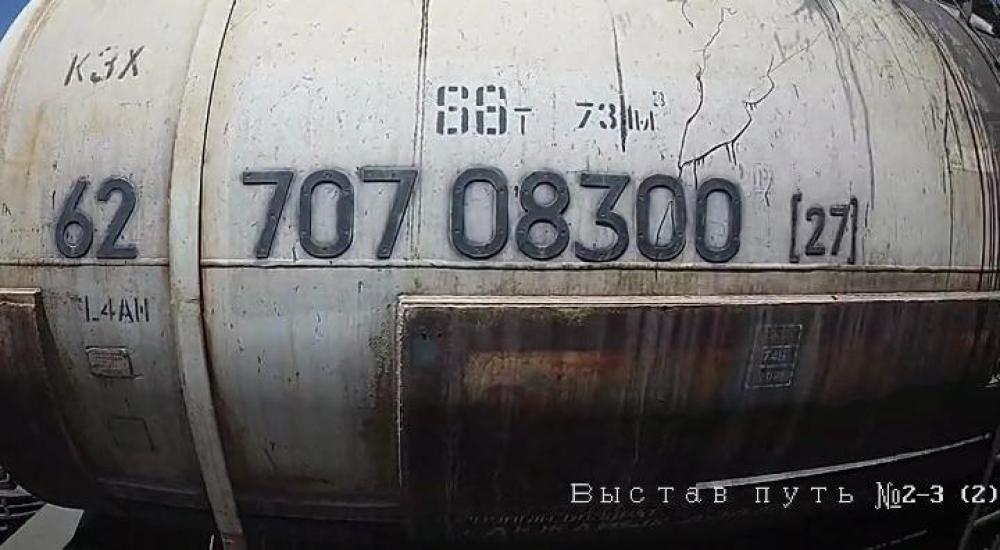Wagon-number: (232, 163, 750, 266)
